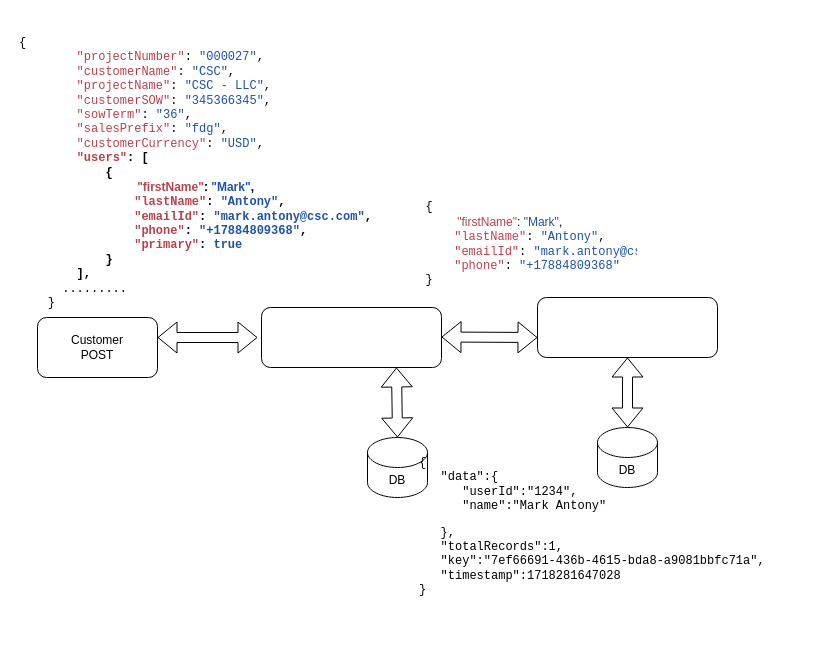
This 824x647 diagram has some shape labels left out. Here are the shapes that lost their labels. From the top down, the centre of each, then its label:
At pixel 351 337: "iomp-customer-service".
At pixel 627 327: "iomp-user-service".
